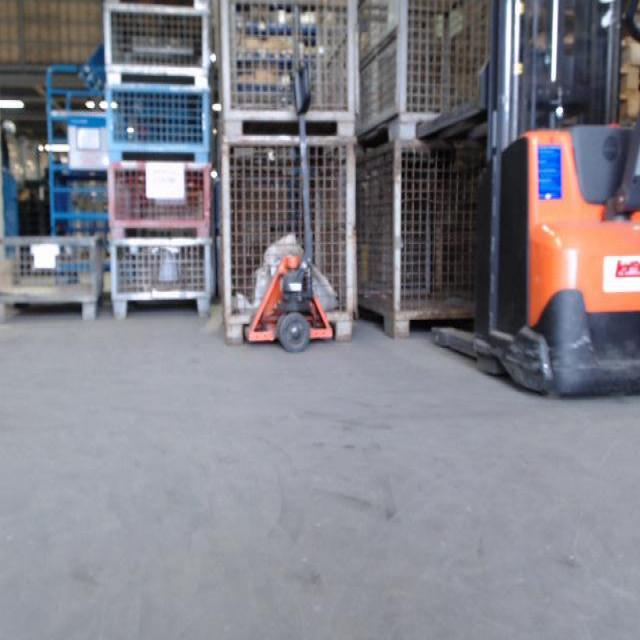pallet_truck: (410, 3, 638, 403), (228, 50, 340, 344)
stillage: (350, 144, 536, 347), (220, 135, 353, 351), (353, 3, 540, 142), (218, 4, 354, 135), (1, 231, 100, 328), (102, 2, 214, 85), (109, 234, 213, 318), (104, 83, 215, 160), (110, 162, 215, 236)
